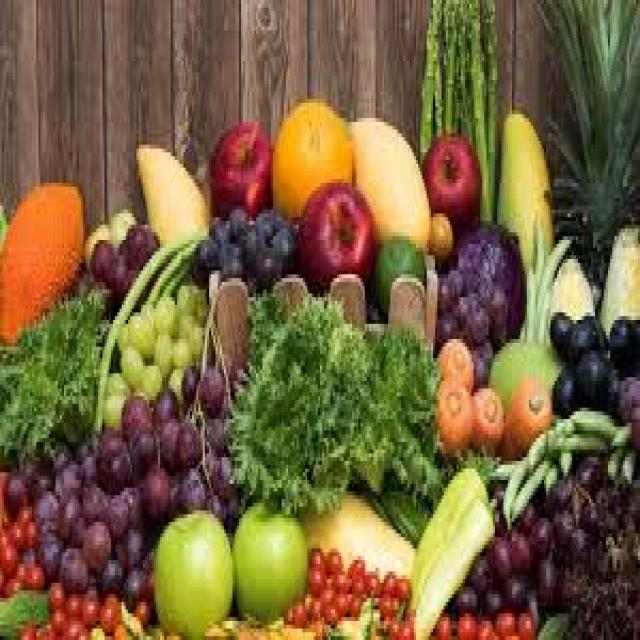organic waste: (535, 0, 638, 290), (226, 286, 348, 514), (311, 316, 431, 495), (92, 232, 196, 416), (0, 286, 98, 461), (407, 461, 493, 636), (0, 179, 81, 335), (346, 114, 426, 248), (152, 503, 230, 636), (269, 95, 352, 217), (296, 488, 414, 572), (493, 111, 550, 278), (230, 495, 305, 617), (132, 141, 207, 259), (294, 179, 374, 286), (454, 221, 525, 335), (565, 526, 638, 636), (488, 335, 557, 450), (371, 457, 452, 545), (209, 114, 267, 210), (420, 126, 480, 217), (488, 335, 554, 415), (465, 0, 489, 217), (599, 225, 638, 343), (548, 248, 593, 350), (418, 0, 442, 164), (478, 0, 497, 206), (536, 232, 570, 336), (433, 370, 472, 450), (504, 373, 548, 442), (373, 236, 422, 297), (148, 236, 198, 294), (207, 610, 311, 636), (0, 587, 47, 636), (514, 457, 546, 526), (0, 587, 45, 636), (435, 332, 474, 388), (96, 422, 128, 488), (472, 384, 504, 446), (454, 0, 468, 141), (599, 488, 638, 537), (501, 453, 525, 526), (608, 316, 638, 374), (141, 461, 168, 522), (578, 350, 608, 404), (544, 423, 606, 449), (442, 0, 454, 130), (113, 518, 143, 568), (175, 465, 203, 518), (555, 408, 612, 434), (335, 598, 373, 636), (81, 518, 109, 568), (124, 312, 154, 358), (81, 217, 107, 267), (546, 308, 570, 362), (120, 392, 150, 434), (156, 415, 179, 469), (201, 362, 226, 411), (522, 426, 554, 464), (147, 328, 171, 377), (4, 465, 28, 514), (32, 484, 58, 529), (196, 362, 218, 415), (429, 210, 452, 259), (130, 430, 156, 472), (550, 366, 574, 411), (60, 544, 85, 586), (568, 312, 595, 350), (488, 533, 510, 579), (151, 384, 175, 426), (177, 316, 203, 354), (522, 271, 536, 339), (461, 301, 486, 339), (119, 343, 141, 385), (104, 492, 126, 534), (501, 572, 525, 610), (26, 457, 51, 492), (100, 251, 128, 282), (151, 293, 175, 328), (431, 57, 442, 133), (117, 480, 139, 518), (98, 556, 120, 594), (36, 534, 58, 572), (0, 522, 17, 571), (538, 556, 556, 602), (212, 453, 230, 499), (612, 370, 630, 415), (203, 415, 226, 450), (182, 411, 198, 461), (510, 526, 529, 568), (90, 236, 111, 274), (175, 274, 196, 312), (171, 328, 192, 366), (122, 564, 143, 602), (96, 594, 117, 632), (171, 332, 192, 369), (53, 461, 75, 495), (454, 579, 478, 610), (584, 495, 600, 541), (75, 453, 96, 488), (574, 453, 601, 480), (469, 556, 488, 594), (139, 362, 158, 400), (109, 202, 130, 236), (17, 499, 34, 541), (100, 388, 120, 423), (557, 568, 580, 598), (488, 286, 506, 324), (488, 457, 522, 476), (572, 526, 589, 564), (531, 514, 548, 552), (126, 221, 143, 259), (226, 358, 245, 392), (179, 362, 196, 400), (192, 324, 209, 362), (60, 492, 77, 530), (303, 564, 324, 594), (132, 590, 150, 625), (81, 488, 102, 518), (531, 213, 542, 270), (102, 370, 126, 396), (182, 366, 200, 400), (608, 415, 627, 446), (495, 606, 514, 636), (618, 449, 634, 484), (173, 308, 196, 332), (122, 598, 138, 632), (552, 507, 570, 537), (516, 606, 534, 636), (66, 510, 83, 541), (47, 579, 64, 610), (454, 610, 474, 636), (7, 514, 26, 541), (141, 221, 158, 251), (482, 583, 501, 609), (192, 286, 205, 324), (540, 286, 550, 335), (550, 476, 568, 503), (308, 541, 326, 568), (75, 434, 96, 457), (198, 442, 212, 476), (333, 590, 348, 621), (79, 590, 94, 621), (62, 614, 83, 636), (320, 594, 337, 621), (606, 442, 619, 476), (64, 587, 81, 613), (436, 308, 454, 332), (324, 544, 342, 568), (346, 594, 362, 621), (26, 560, 42, 587), (362, 568, 378, 594), (348, 552, 365, 576), (435, 274, 448, 305), (435, 610, 450, 636), (378, 590, 394, 614), (141, 544, 156, 568), (181, 141, 194, 168), (629, 408, 638, 446), (542, 465, 555, 491), (446, 263, 459, 289), (399, 610, 412, 636), (333, 568, 348, 590), (207, 492, 222, 514), (365, 297, 382, 316), (476, 617, 493, 636), (288, 602, 305, 621), (19, 617, 36, 636), (307, 594, 322, 614), (113, 320, 126, 343), (382, 568, 395, 590), (629, 373, 638, 404), (56, 442, 68, 465), (2, 568, 17, 586), (138, 297, 152, 316), (17, 560, 28, 583), (394, 576, 408, 594), (143, 568, 151, 598), (49, 610, 62, 628), (117, 232, 128, 252), (388, 617, 399, 636), (36, 625, 54, 636), (113, 621, 126, 636), (324, 568, 333, 586), (348, 579, 360, 591), (0, 205, 4, 240), (0, 464, 6, 487)
